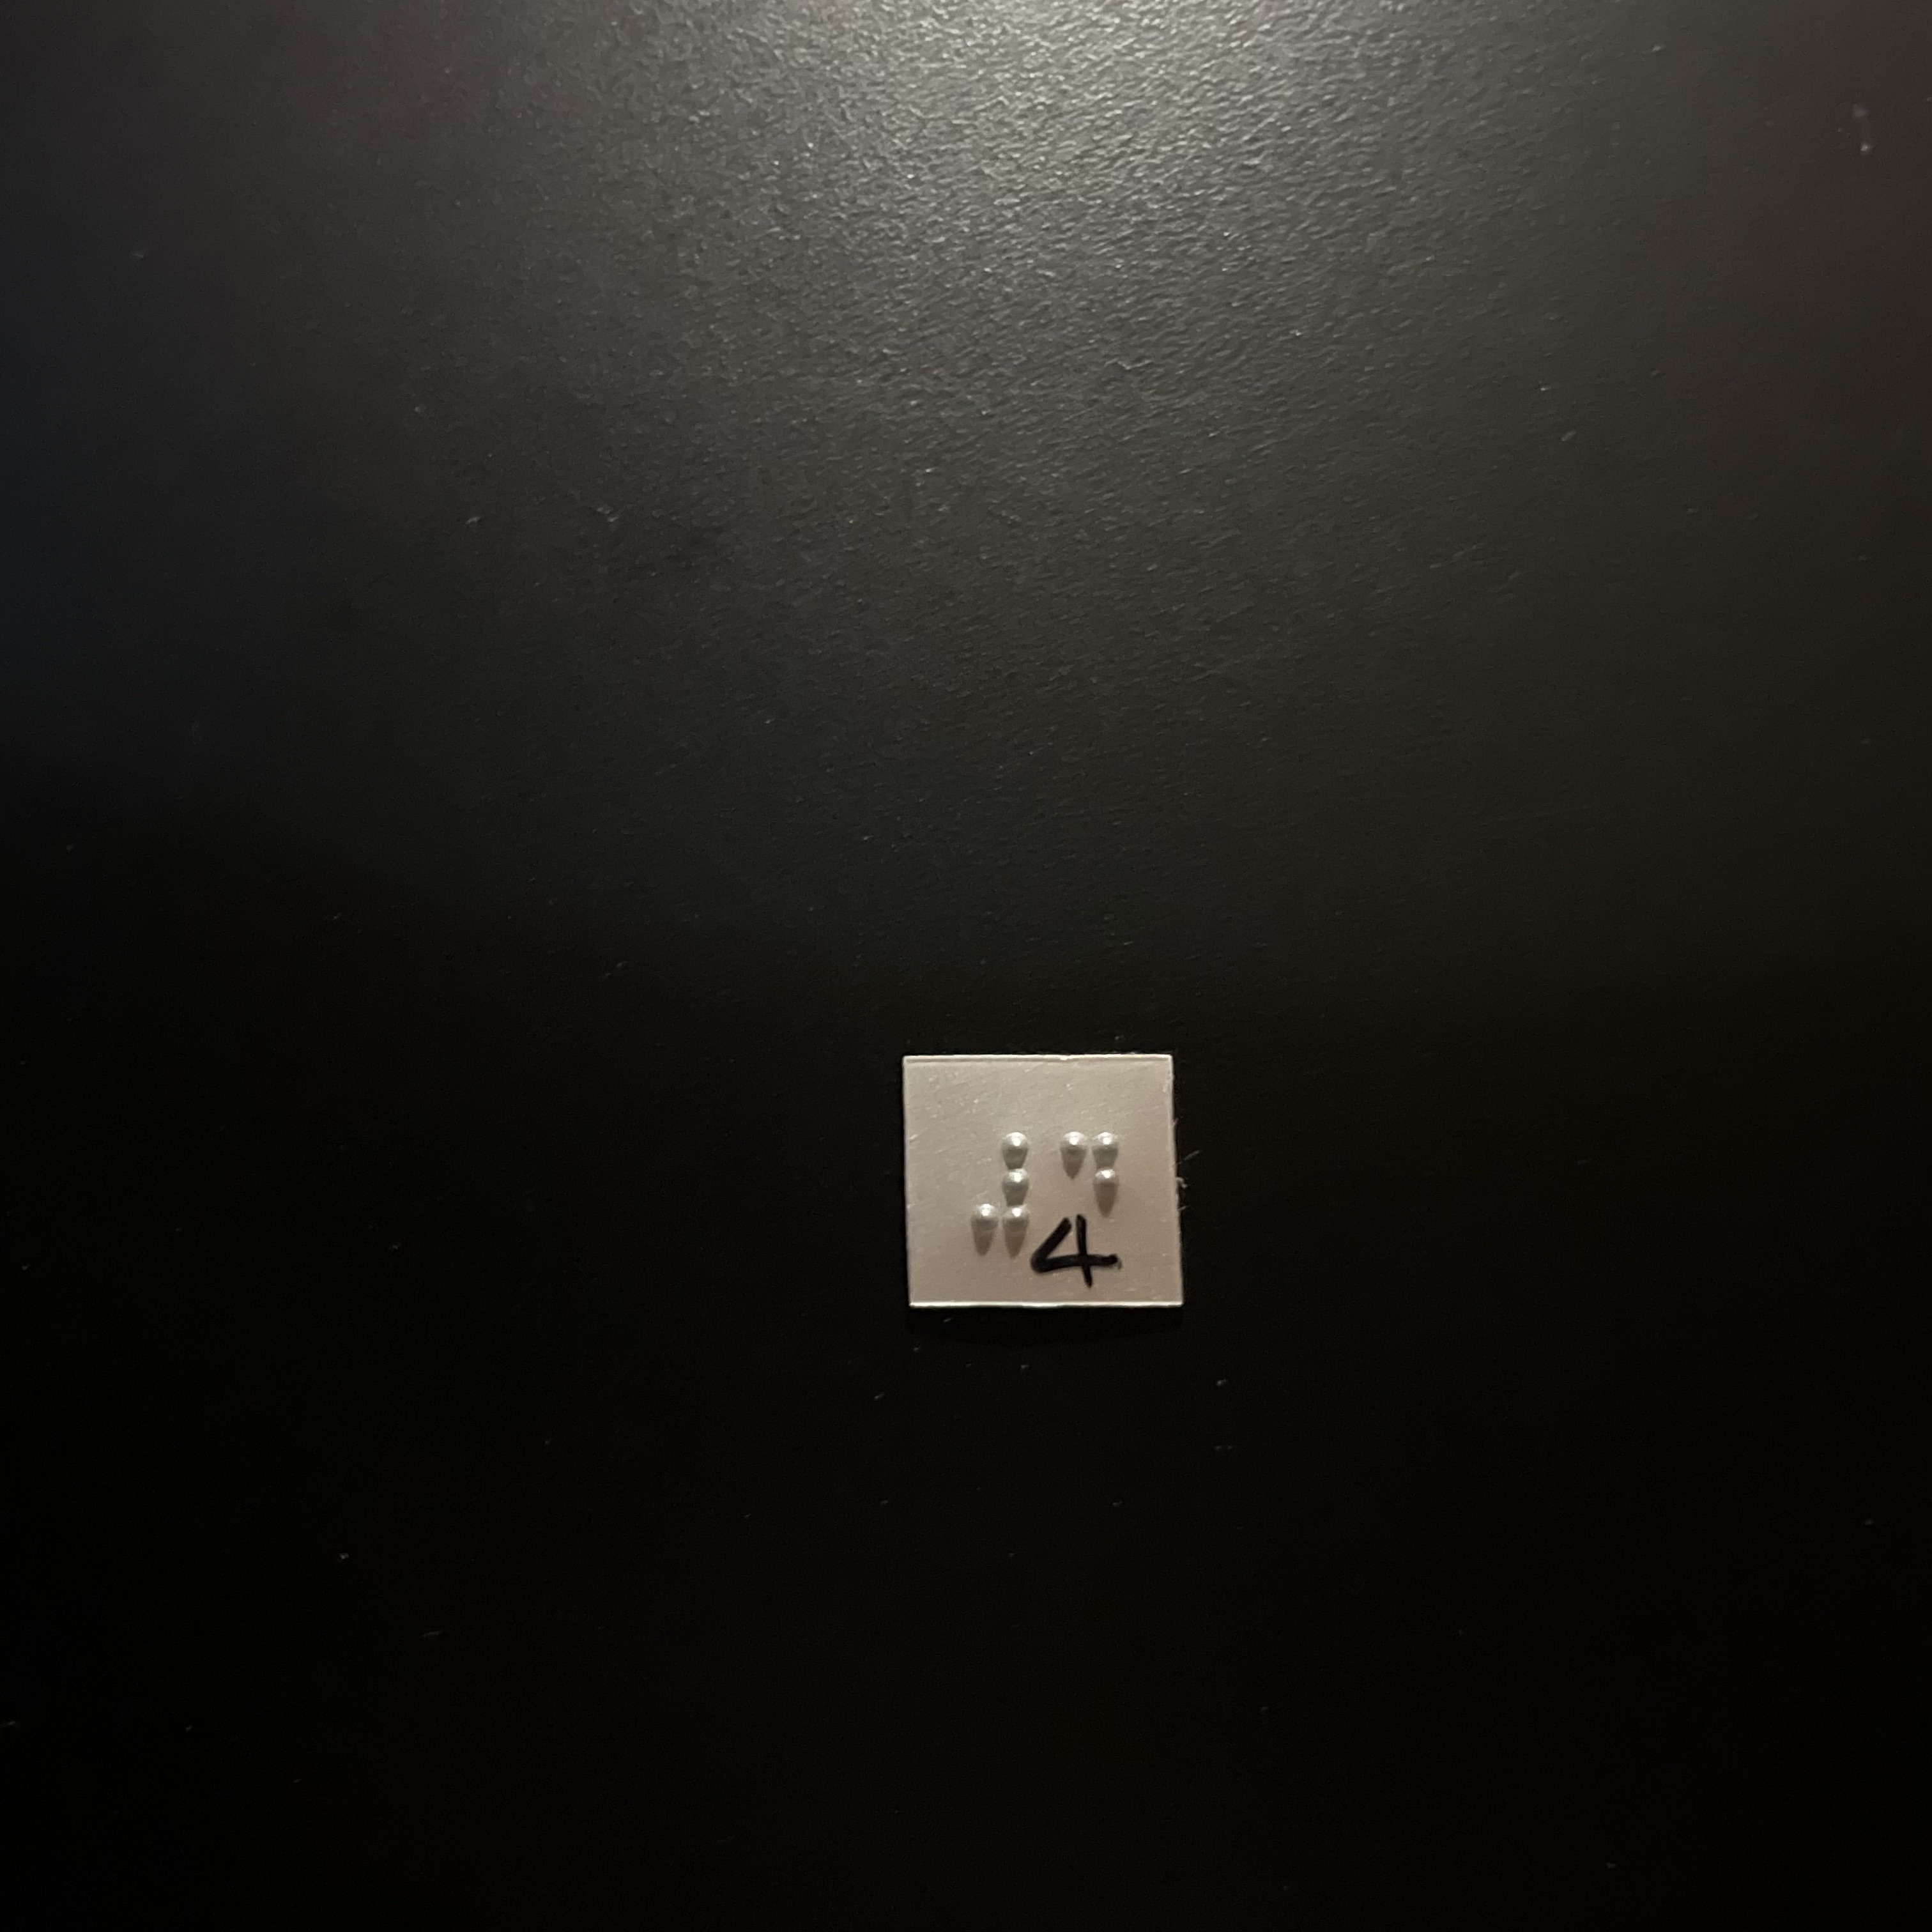#: (963, 1130, 1038, 1262)
d: (1055, 1130, 1126, 1264)
